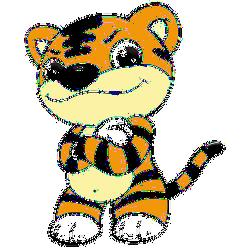AA: (151, 9, 240, 119)
CC: (21, 157, 133, 227)
